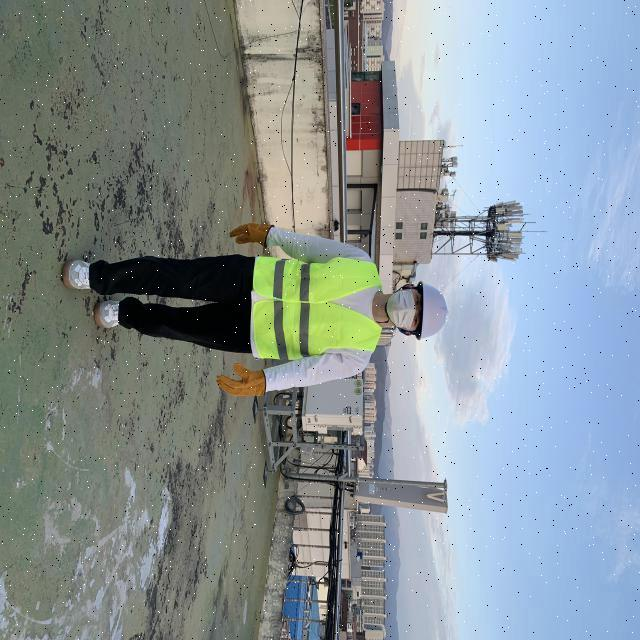Hard_hat: (414, 279, 458, 343)
Person: (48, 210, 460, 407)
Vest: (246, 258, 382, 362)
